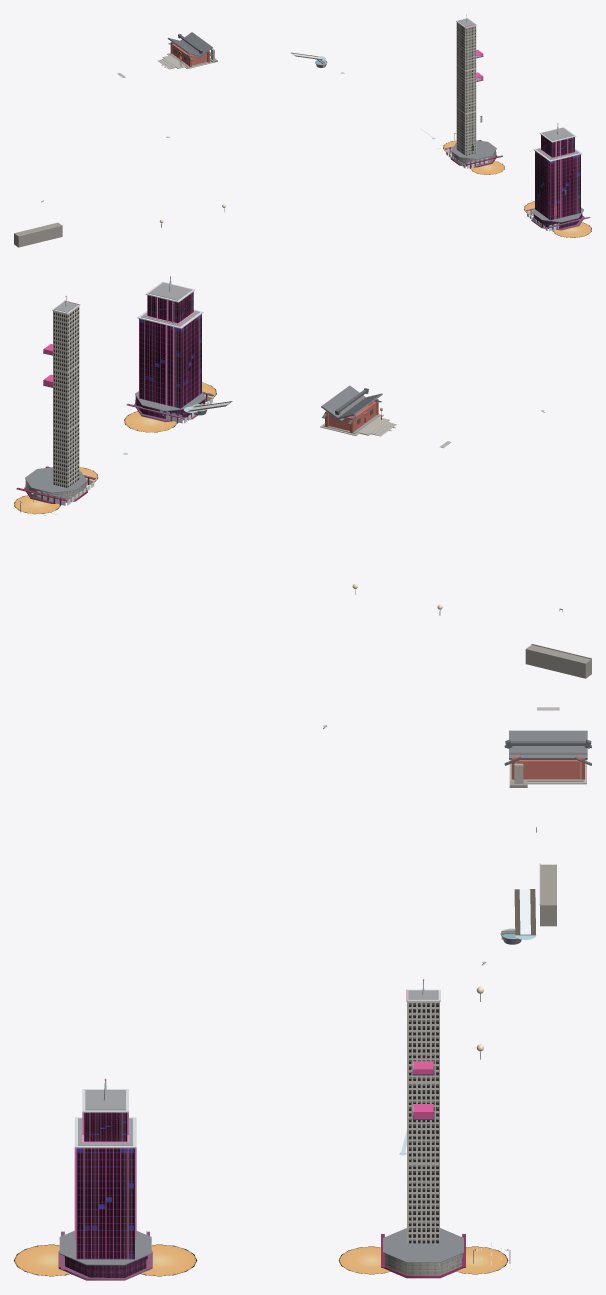
The model's file is tile_500_0.glb.
The picture shows the model from 3 angles, top to bottom: view 1: azimuth 30°, elevation 25°; view 2: azimuth 150°, elevation 25°; view 3: azimuth 270°, elevation 25°; orthographic projection. The views are drawn at different scales.
Parts seen in each view (by area): view 1: tile; view 2: tile; view 3: tile.
Part boxes in pixels (x1,y1,x2,y2): tile: (14, 14, 591, 247); tile: (14, 276, 591, 678); tile: (14, 707, 591, 1280).
Bounding box in the file's own units: 515 × 178 × 305.
71 materials, 10 textured.
